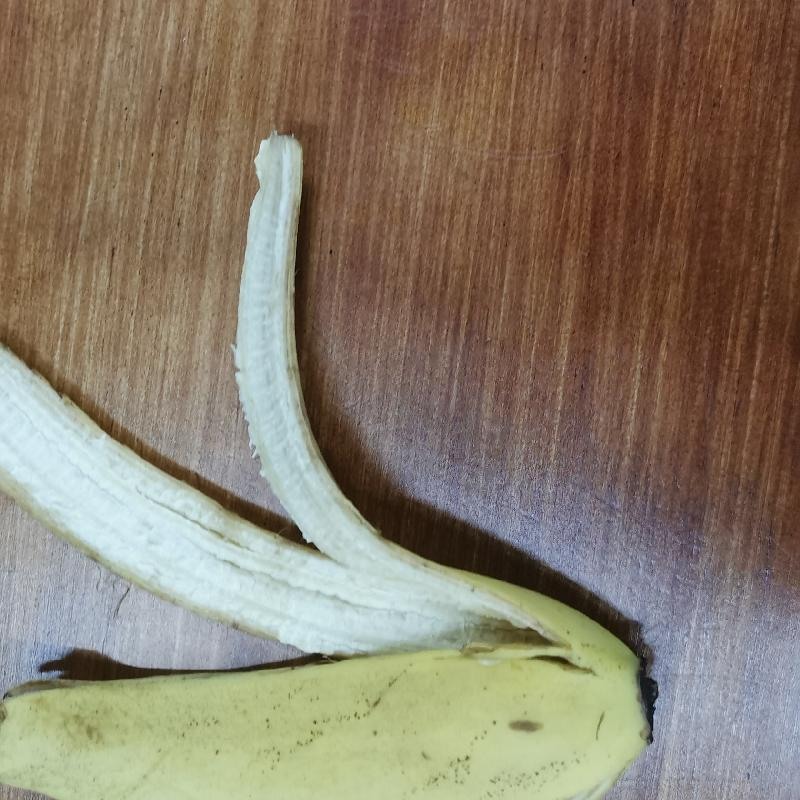bananas: (0, 122, 655, 800)
